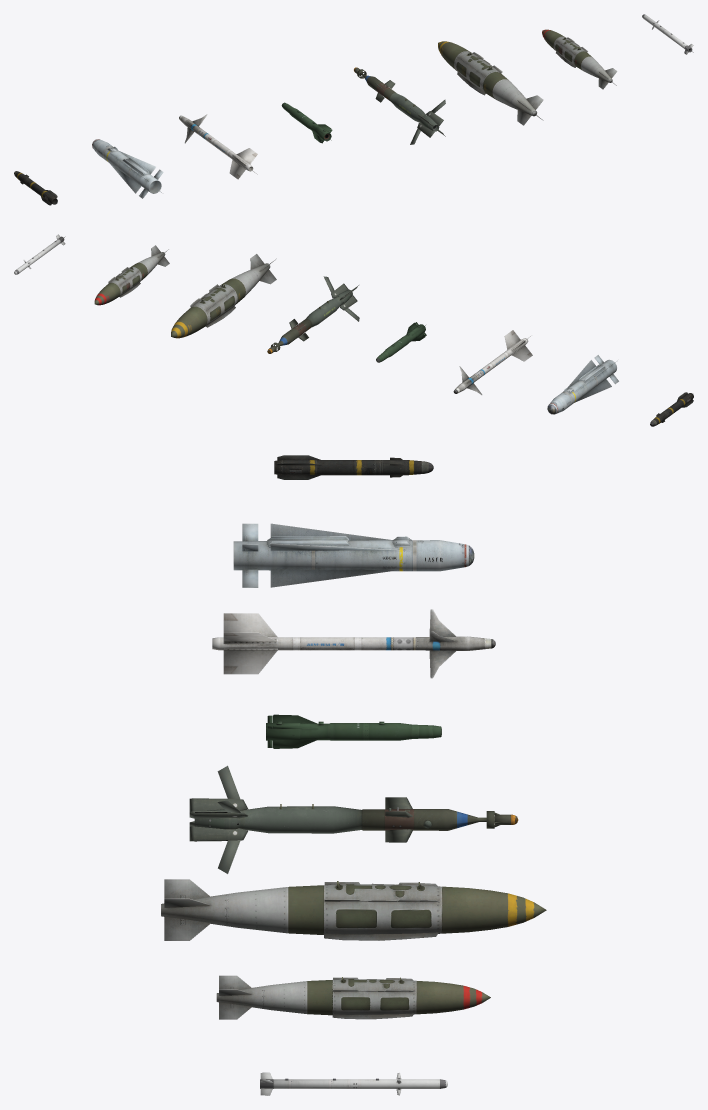
File: missiles.glb
3 renders of one model, top to bottom at view 1: azimuth 30°, elevation 25°; view 2: azimuth 150°, elevation 25°; view 3: azimuth 270°, elevation 25°, orthographic. The views are drawn at different scales.
Visible parts, largest first — view 1: W_gbu31__Body_1, W_agm65__Body_1, W_gbu12__Body_1, W_gbu32__Body_1, W_aim9x__Body_1, W_akd10__Body_1, W_agm114__Body_1, W_ty90__Body_1; view 2: W_gbu31__Body_1, W_agm65__Body_1, W_gbu12__Body_1, W_gbu32__Body_1, W_aim9x__Body_1, W_akd10__Body_1, W_agm114__Body_1, W_ty90__Body_1; view 3: W_gbu31__Body_1, W_agm65__Body_1, W_gbu12__Body_1, W_gbu32__Body_1, W_aim9x__Body_1, W_akd10__Body_1, W_agm114__Body_1, W_ty90__Body_1.
Boxes of the visible parts, <box> form: W_gbu31__Body_1: <box>438,41,543,125</box>; W_agm65__Body_1: <box>92,139,163,198</box>; W_gbu12__Body_1: <box>354,67,445,144</box>; W_gbu32__Body_1: <box>542,29,617,89</box>; W_aim9x__Body_1: <box>179,114,257,179</box>; W_akd10__Body_1: <box>281,102,332,143</box>; W_agm114__Body_1: <box>14,171,57,205</box>; W_ty90__Body_1: <box>642,14,693,54</box>; W_gbu31__Body_1: <box>171,254,276,338</box>; W_agm65__Body_1: <box>547,355,618,414</box>; W_gbu12__Body_1: <box>267,276,359,353</box>; W_gbu32__Body_1: <box>94,245,169,305</box>; W_aim9x__Body_1: <box>453,330,532,395</box>; W_akd10__Body_1: <box>376,322,426,362</box>; W_agm114__Body_1: <box>650,392,693,426</box>; W_ty90__Body_1: <box>14,234,65,274</box>; W_gbu31__Body_1: <box>161,879,546,940</box>; W_agm65__Body_1: <box>233,523,474,587</box>; W_gbu12__Body_1: <box>189,765,518,873</box>; W_gbu32__Body_1: <box>216,975,490,1019</box>; W_aim9x__Body_1: <box>212,609,495,678</box>; W_akd10__Body_1: <box>266,714,441,748</box>; W_agm114__Body_1: <box>274,455,433,479</box>; W_ty90__Body_1: <box>260,1072,447,1095</box>.
Size of the model in its own units: 42.53 by 2.36 by 11.11.
8 materials, 8 textured.
